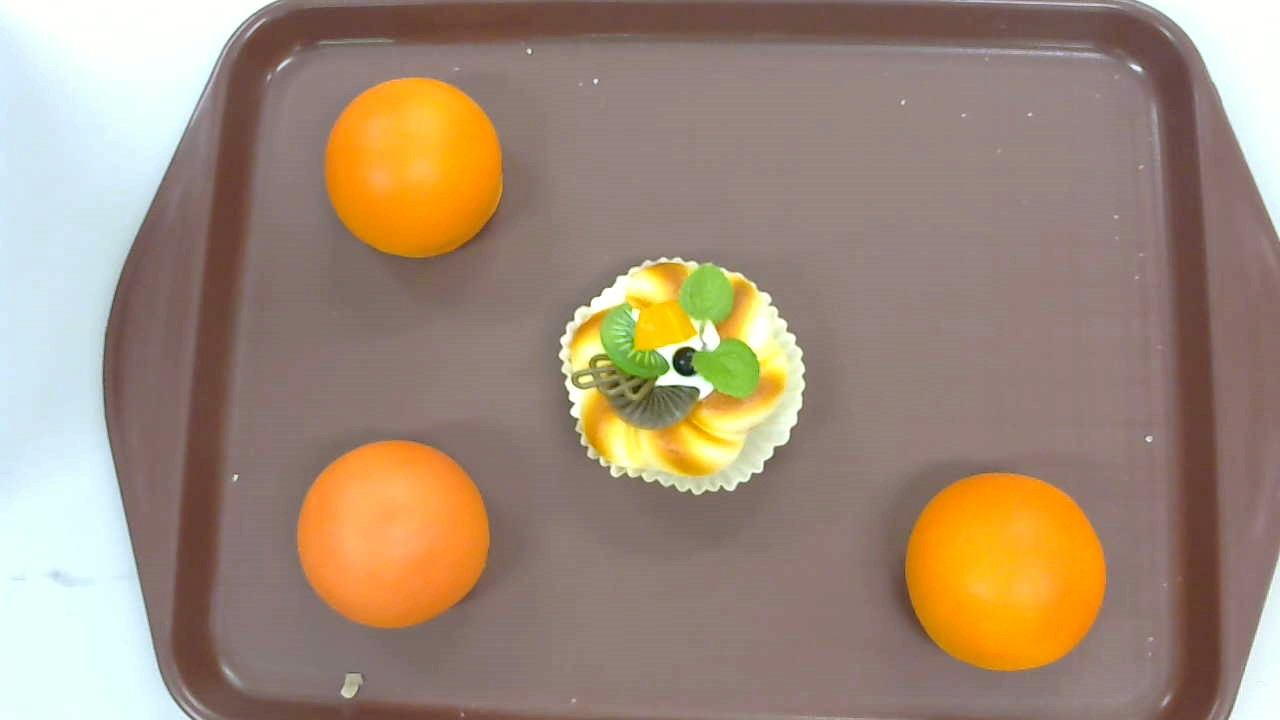bun: (905, 472, 1107, 671), (297, 441, 489, 630), (325, 77, 502, 260)
fruit tart: (559, 255, 807, 495)
